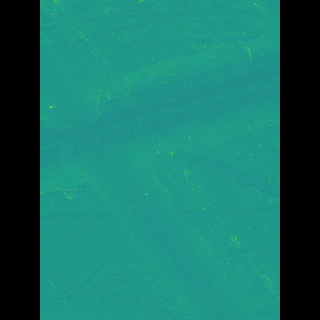Loch: (69, 34, 230, 320), (155, 0, 250, 170)
